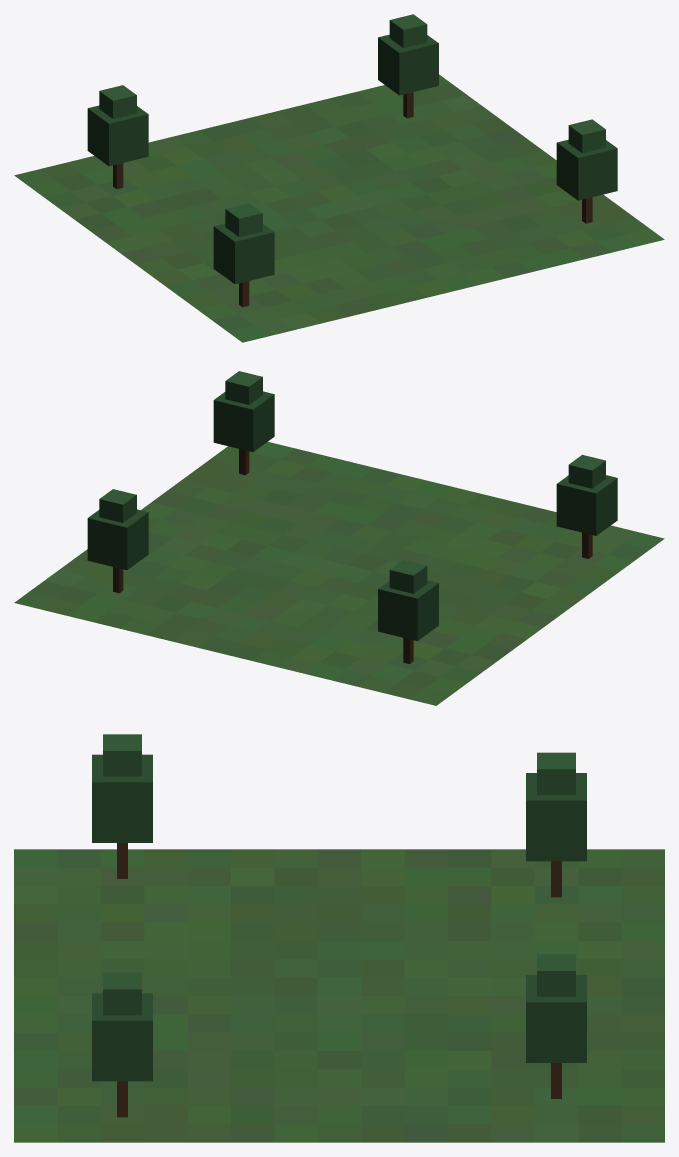
3 renders of one model, top to bottom at view 1: azimuth 30°, elevation 25°; view 2: azimuth 150°, elevation 25°; view 3: azimuth 270°, elevation 25°, orthographic. The views are drawn at different scales.
Parts seen in each view (by area): view 1: scenery; view 2: scenery; view 3: scenery.
Part boxes in pixels (left/top/right/bottom): scenery: left=14, top=14, right=664, bottom=342; scenery: left=14, top=371, right=664, bottom=705; scenery: left=14, top=734, right=664, bottom=1142.
Bounding box in the file's own units: 16 × 3.41 × 15.
